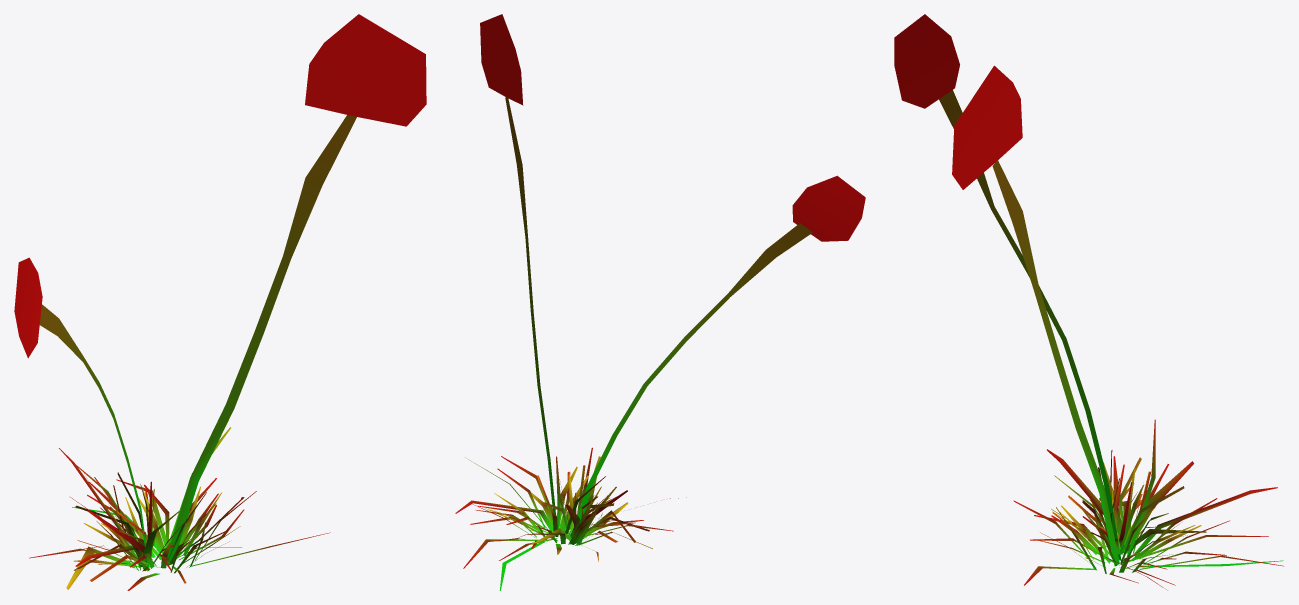
Rendered from Var9_LOD3.fbx.
3 views of the same model, side by side, from view 1: azimuth 30°, elevation 25°; view 2: azimuth 150°, elevation 25°; view 3: azimuth 270°, elevation 25° (orthographic). The views are drawn at different scales.
Visible parts, largest first — view 1: _1yzc_Var9_LOD3; view 2: _1yzc_Var9_LOD3; view 3: _1yzc_Var9_LOD3.
Part boxes in pixels (x1=…): _1yzc_Var9_LOD3: x1=14, y1=14, x2=426, y2=590; _1yzc_Var9_LOD3: x1=455, y1=14, x2=865, y2=590; _1yzc_Var9_LOD3: x1=894, y1=14, x2=1283, y2=590.
Bounding box in the file's own units: 11.3 × 13.85 × 8.64.
